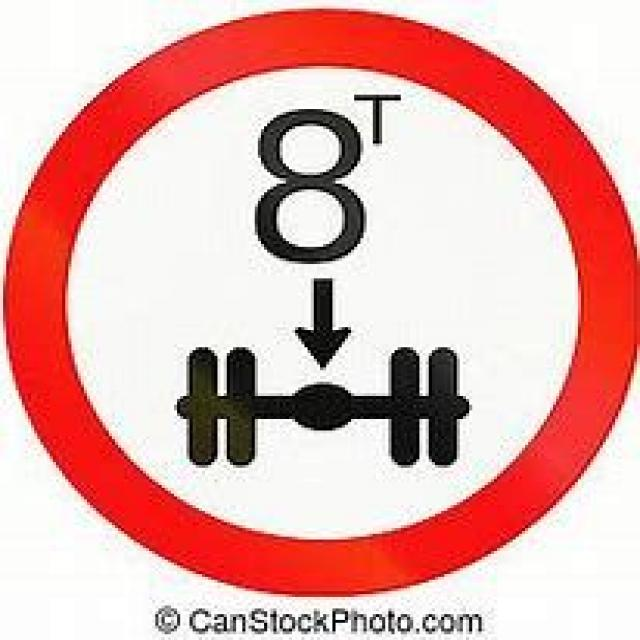AXLE_LOAD_LIMIT: (0, 3, 637, 594)
